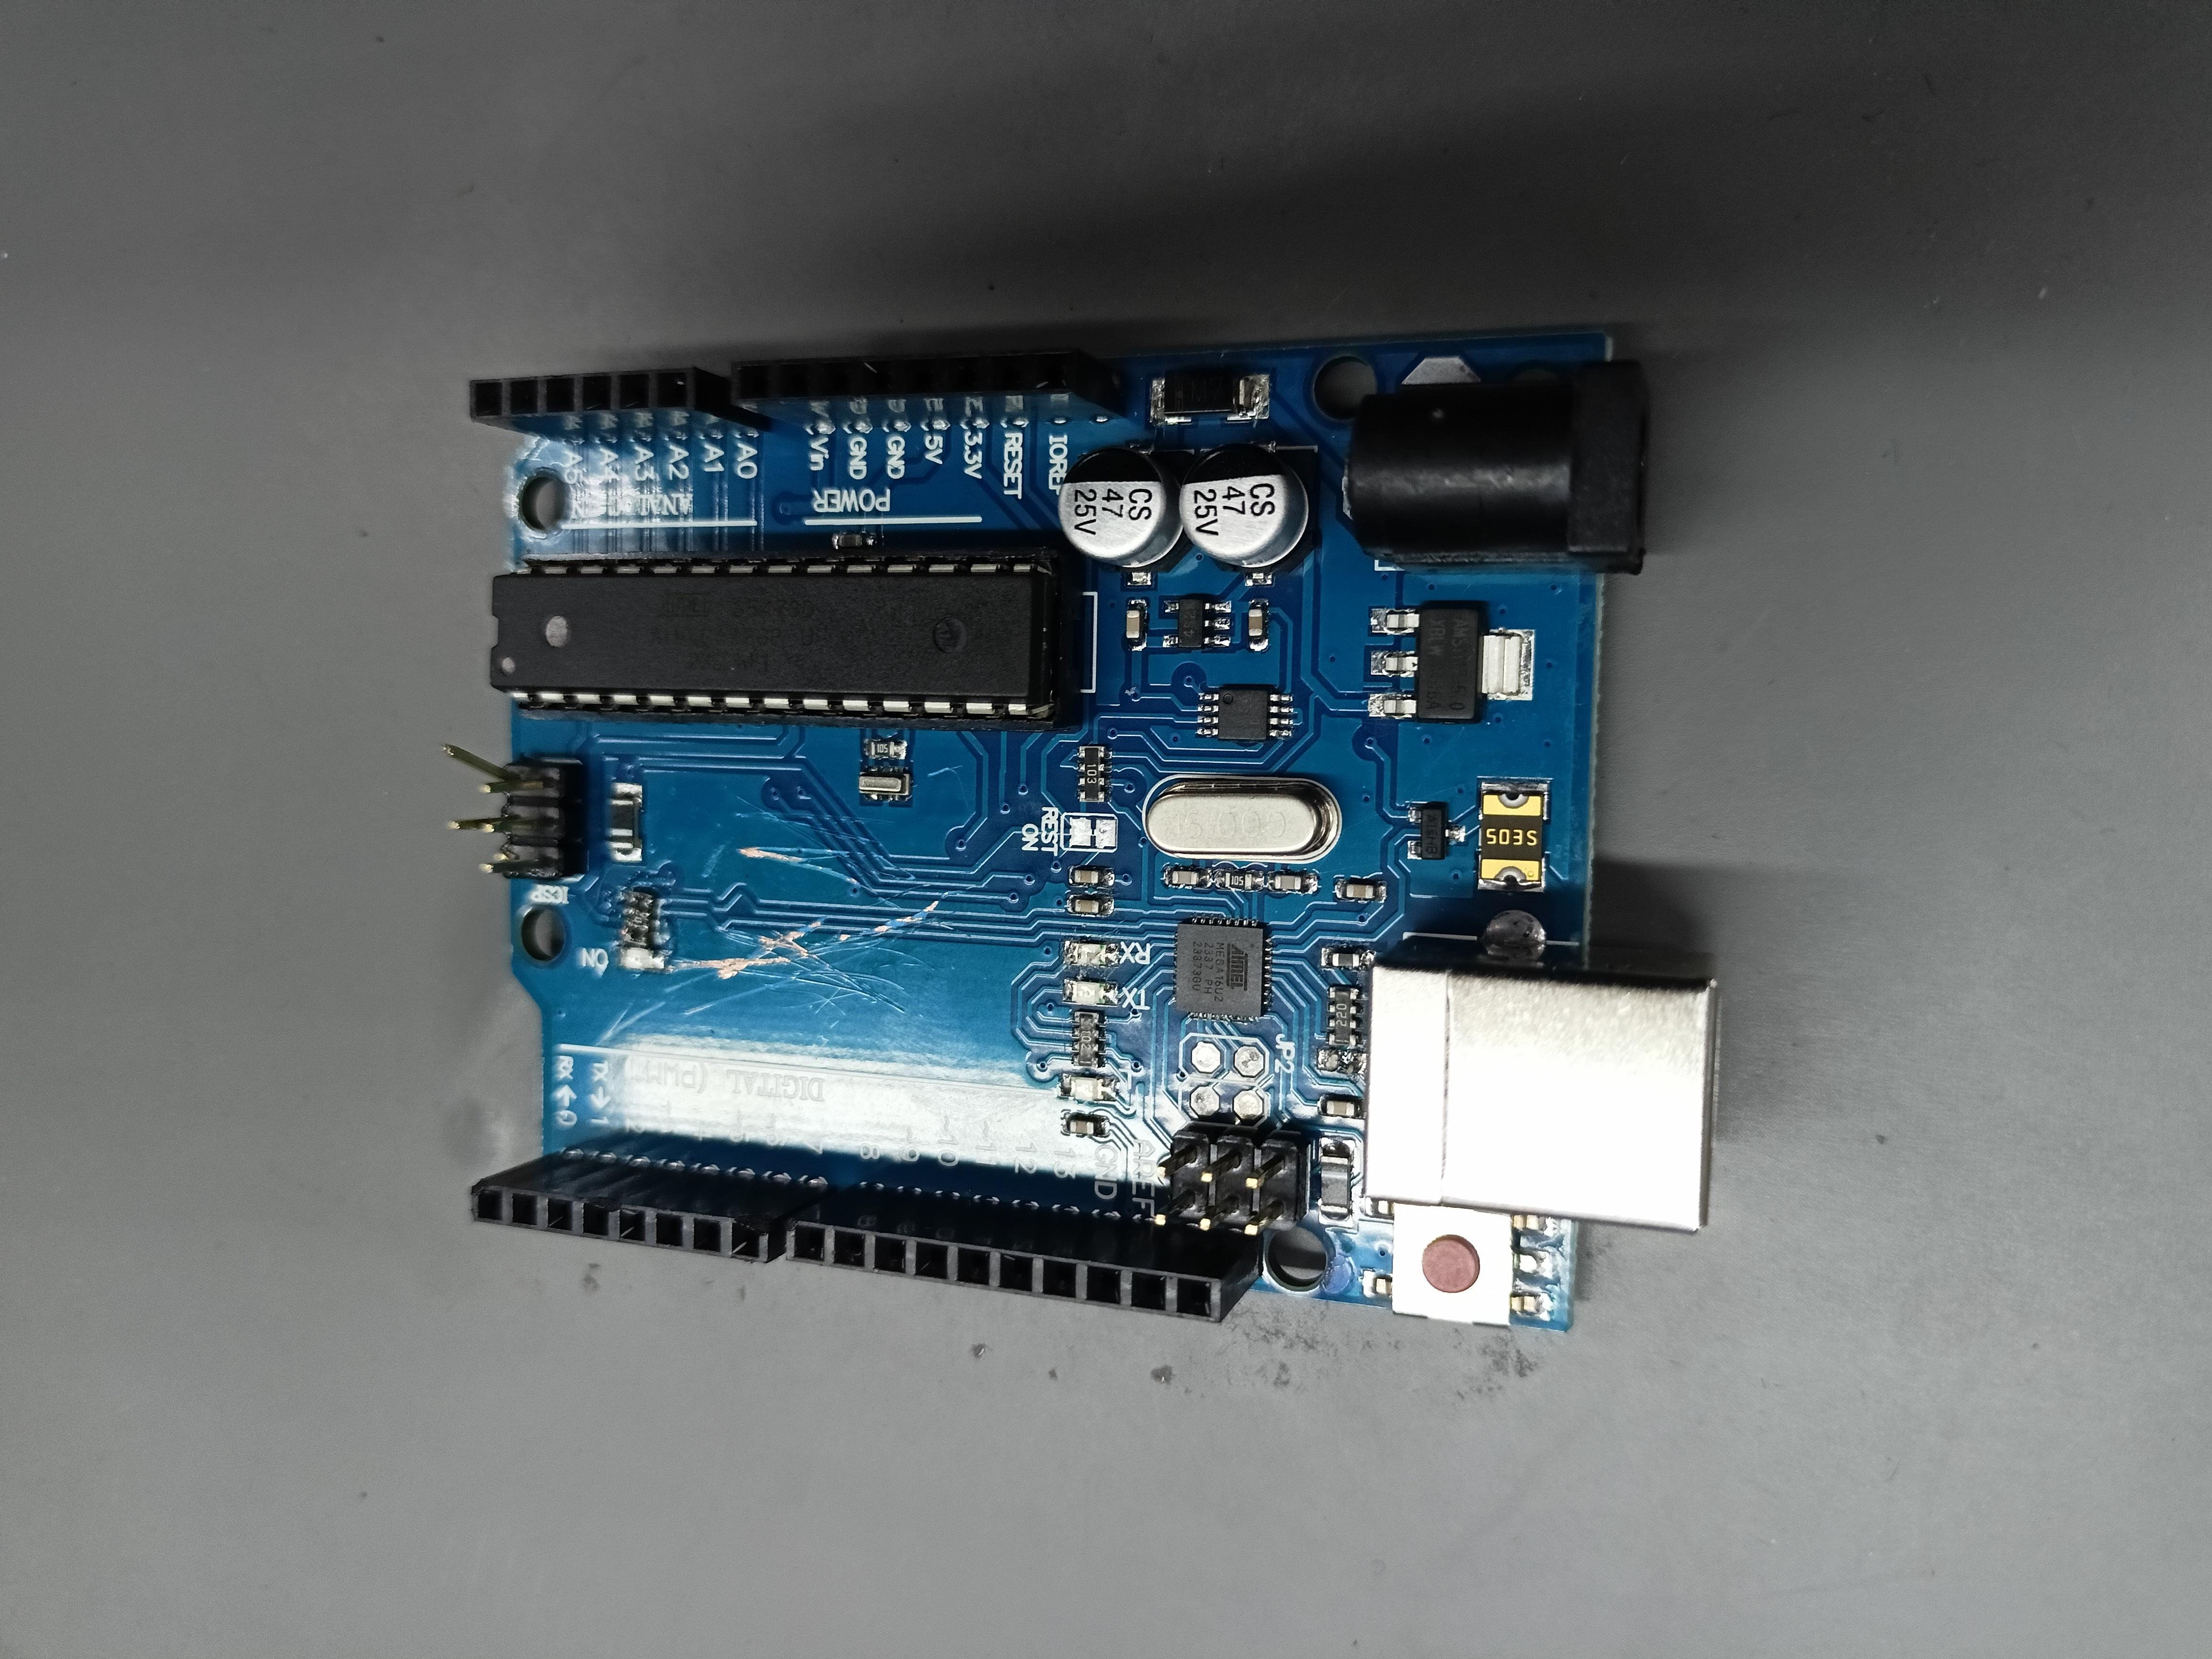ATmega328 chip: (489, 547, 1083, 732)
Arduino board: (442, 331, 1717, 1331)
Scratch: (1345, 728, 1463, 829), (733, 795, 895, 842), (738, 847, 878, 896), (745, 915, 892, 958), (859, 890, 967, 936), (796, 978, 906, 1019), (672, 951, 794, 979), (787, 950, 871, 990), (599, 1002, 665, 1046), (852, 938, 935, 971), (1336, 711, 1414, 744), (683, 986, 768, 1014), (880, 917, 954, 948), (840, 856, 916, 882), (596, 999, 636, 1047), (860, 884, 930, 911), (841, 971, 911, 997), (928, 765, 968, 810), (766, 983, 829, 1007), (700, 836, 735, 877), (665, 971, 723, 993), (1313, 856, 1379, 875), (737, 967, 806, 985), (805, 931, 864, 950), (786, 824, 831, 849), (714, 925, 765, 946), (831, 950, 871, 972), (871, 990, 909, 1011), (871, 852, 899, 871), (815, 948, 862, 957), (813, 1026, 829, 1053), (1103, 920, 1125, 938), (819, 976, 850, 988), (707, 857, 721, 882), (726, 936, 756, 946), (808, 946, 834, 953), (1103, 969, 1116, 981), (836, 836, 855, 843), (831, 1019, 840, 1030), (627, 972, 639, 979), (1099, 969, 1106, 976), (880, 964, 892, 967), (1071, 925, 1076, 932), (965, 885, 975, 889), (857, 840, 866, 843), (1115, 931, 1120, 936), (801, 941, 806, 946), (648, 849, 655, 852), (859, 856, 866, 859), (918, 1014, 923, 1018), (862, 997, 867, 1000), (871, 1000, 876, 1004), (857, 852, 864, 854), (951, 967, 954, 969), (810, 1006, 813, 1007), (1118, 932, 1120, 934), (1097, 972, 1099, 974)
USB: (1366, 936, 1717, 1236)
capacitor: (1179, 443, 1320, 573), (1057, 446, 1198, 573)
pins: (786, 1185, 1263, 1323), (470, 1150, 838, 1263), (732, 349, 1125, 429), (470, 364, 772, 443)
resistor: (620, 890, 655, 946), (1329, 985, 1359, 1046), (1073, 1011, 1103, 1066), (1080, 746, 1106, 802)
